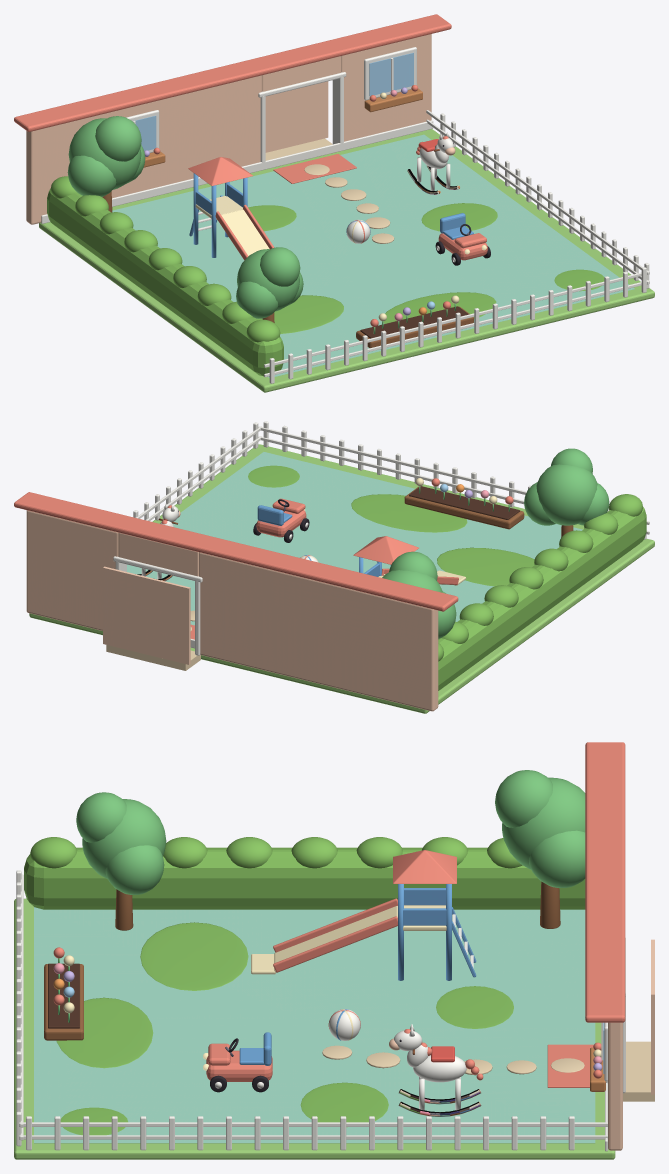
Rendered from room_lawn.glb.
3 views of the same model, one above another, from view 1: azimuth 30°, elevation 25°; view 2: azimuth 150°, elevation 25°; view 3: azimuth 270°, elevation 25° (orthographic). The views are drawn at different scales.
Parts seen in each view (by area): view 1: NAV_floor, house_wall_0, floor, hedge, house_eave, fence_posts, house_wall_1, fence_rails, doorway_N_view, house_skirting, floor_patch_0, oak_back_leaves_0 (+29 smaller); view 2: house_wall_0, NAV_floor, house_wall_1, house_eave, hedge, doorway_N_view, floor, fence_rails, tree_leaves_0, fence_posts, floor_patch_2, floor_patch_0 (+23 smaller); view 3: NAV_floor, hedge, floor, house_eave, fence_posts, floor_patch_0, fence_rails, floor_patch_2, oak_back_leaves_0, tree_leaves_0, floor_patch_1, floor_patch_3 (+29 smaller).
Part boxes in pixels (<box>): NAV_floor: <box>112,134,634,377</box>; house_wall_0: <box>26,75,261,224</box>; floor: <box>39,129,654,392</box>; hedge: <box>47,189,283,376</box>; house_eave: <box>14,14,451,131</box>; fence_posts: <box>269,113,649,383</box>; house_wall_1: <box>341,34,431,141</box>; fence_rails: <box>264,110,649,377</box>; doorway_N_view: <box>265,81,328,152</box>; house_skirting: <box>41,120,433,223</box>; floor_patch_0: <box>256,295,343,333</box>; oak_back_leaves_0: <box>68,118,141,189</box>; house_wall_0: <box>199,552,438,711</box>; NAV_floor: <box>127,452,582,625</box>; house_wall_1: <box>26,510,118,630</box>; house_eave: <box>14,492,458,611</box>; hedge: <box>438,507,646,690</box>; doorway_N_view: <box>103,566,190,664</box>; floor: <box>29,444,654,713</box>; fence_rails: <box>135,426,649,534</box>; tree_leaves_0: <box>536,464,597,525</box>; fence_posts: <box>133,421,646,539</box>; floor_patch_2: <box>351,494,467,532</box>; floor_patch_0: <box>437,547,534,586</box>; NAV_floor: <box>34,907,595,1143</box>; hedge: <box>24,847,585,909</box>; floor: <box>14,898,615,1159</box>; house_eave: <box>585,742,625,1022</box>; fence_posts: <box>16,870,574,1150</box>; floor_patch_0: <box>140,922,248,990</box>; fence_rails: <box>19,874,607,1140</box>; floor_patch_2: <box>56,997,153,1068</box>; oak_back_leaves_0: <box>502,777,585,869</box>; tree_leaves_0: <box>82,799,166,879</box>; floor_patch_1: <box>300,1082,388,1127</box>; floor_patch_3: <box>436,986,513,1028</box>.
Size of the model in its own units: 6.5 by 1.8 by 6.39.
Materials: 2 (2 with a texture image).
